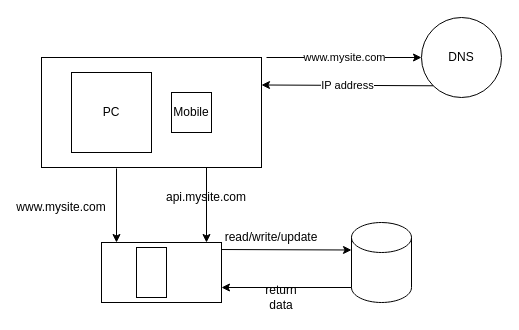
Image size: 519x330. Some labels were removed from this diagram. Each missing label, with the box of its shape:
DB: (350, 222, 412, 302)
web server: (136, 246, 166, 298)
